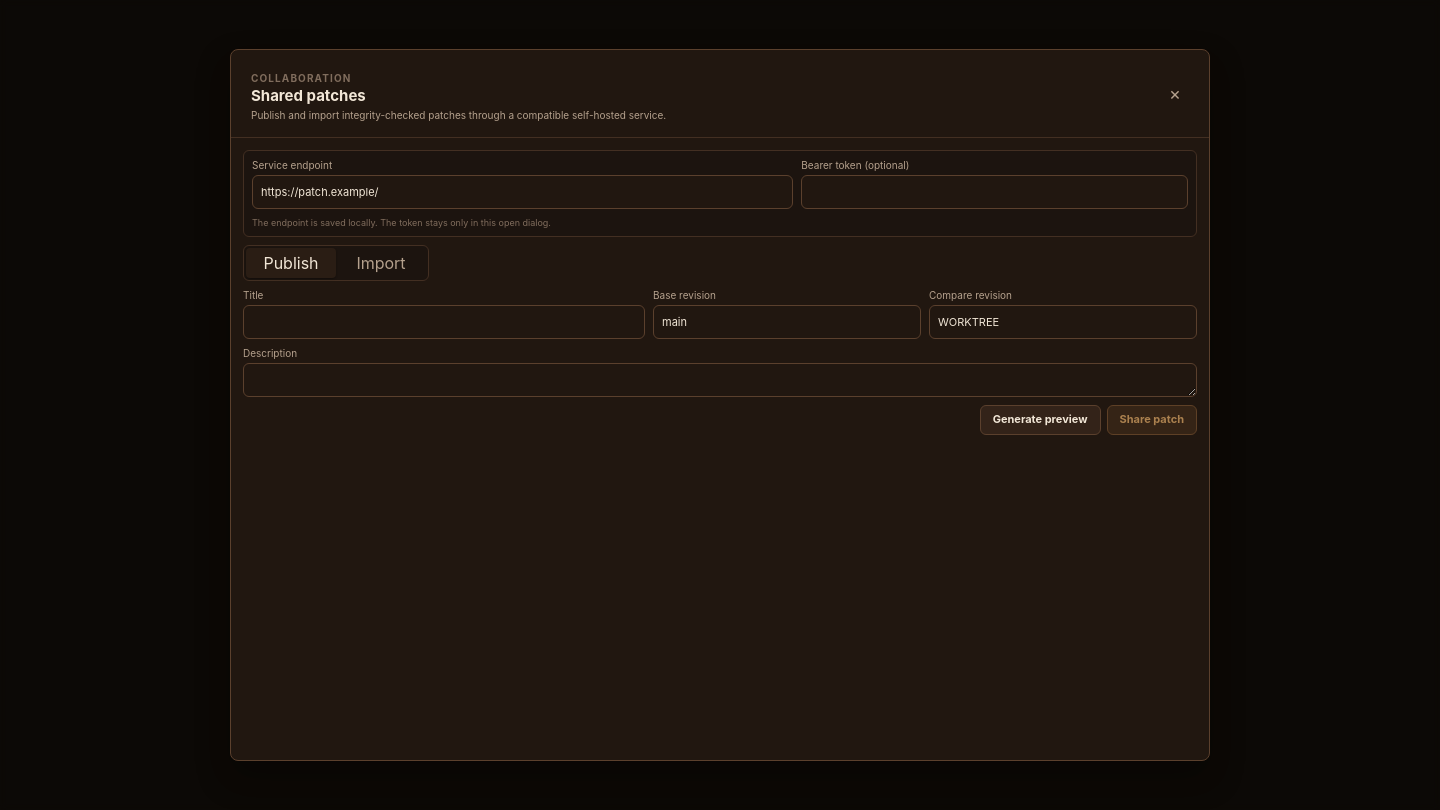
Test: PatchShareDialog › clears the previous action status when switching tabs
Click the button "Generate preview" at [1040, 420], box [980, 405, 1100, 435]
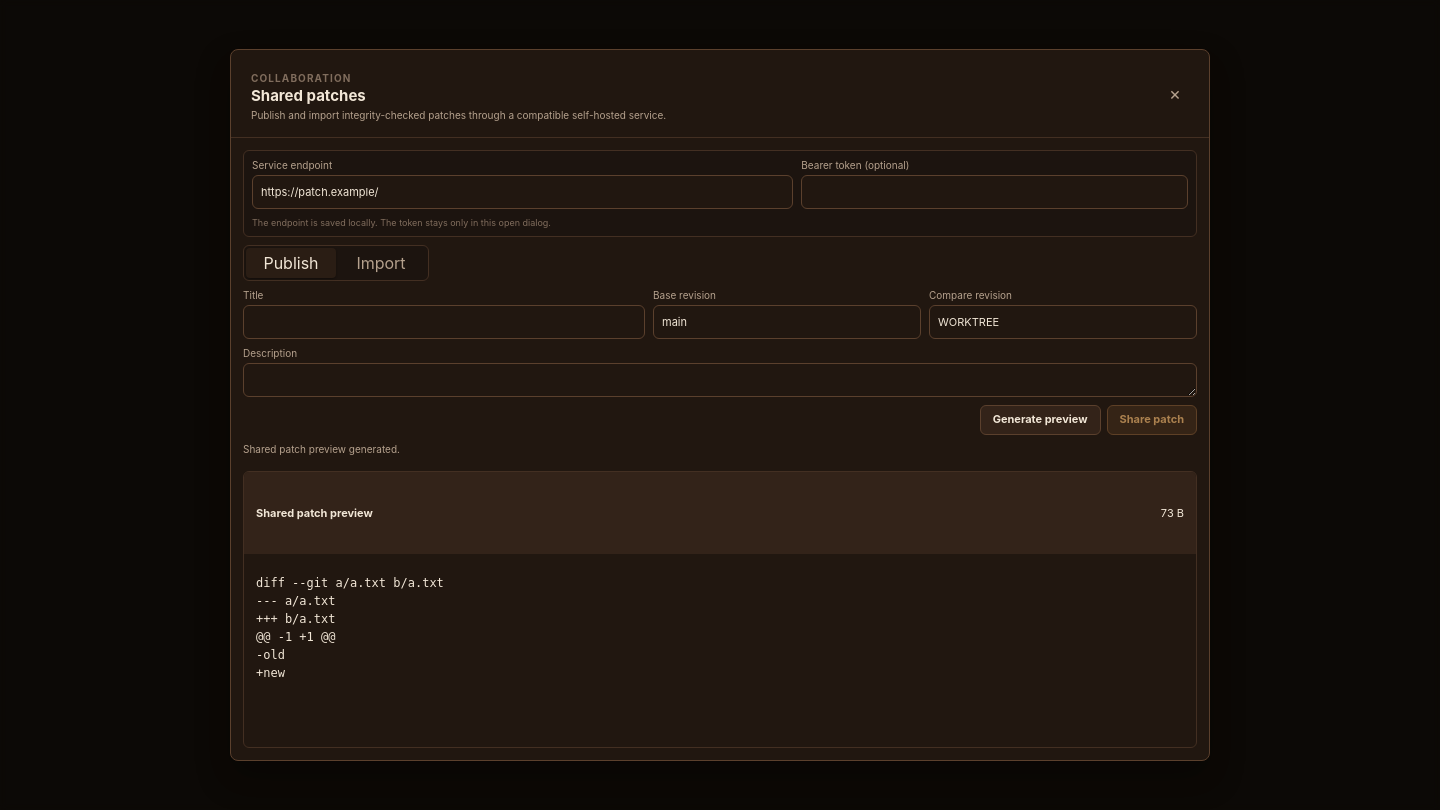
Expected: the text "Shared patch preview generated." is shown, [243, 443, 400, 455]
Click the tab "Import" at [381, 263], box [336, 248, 426, 278]
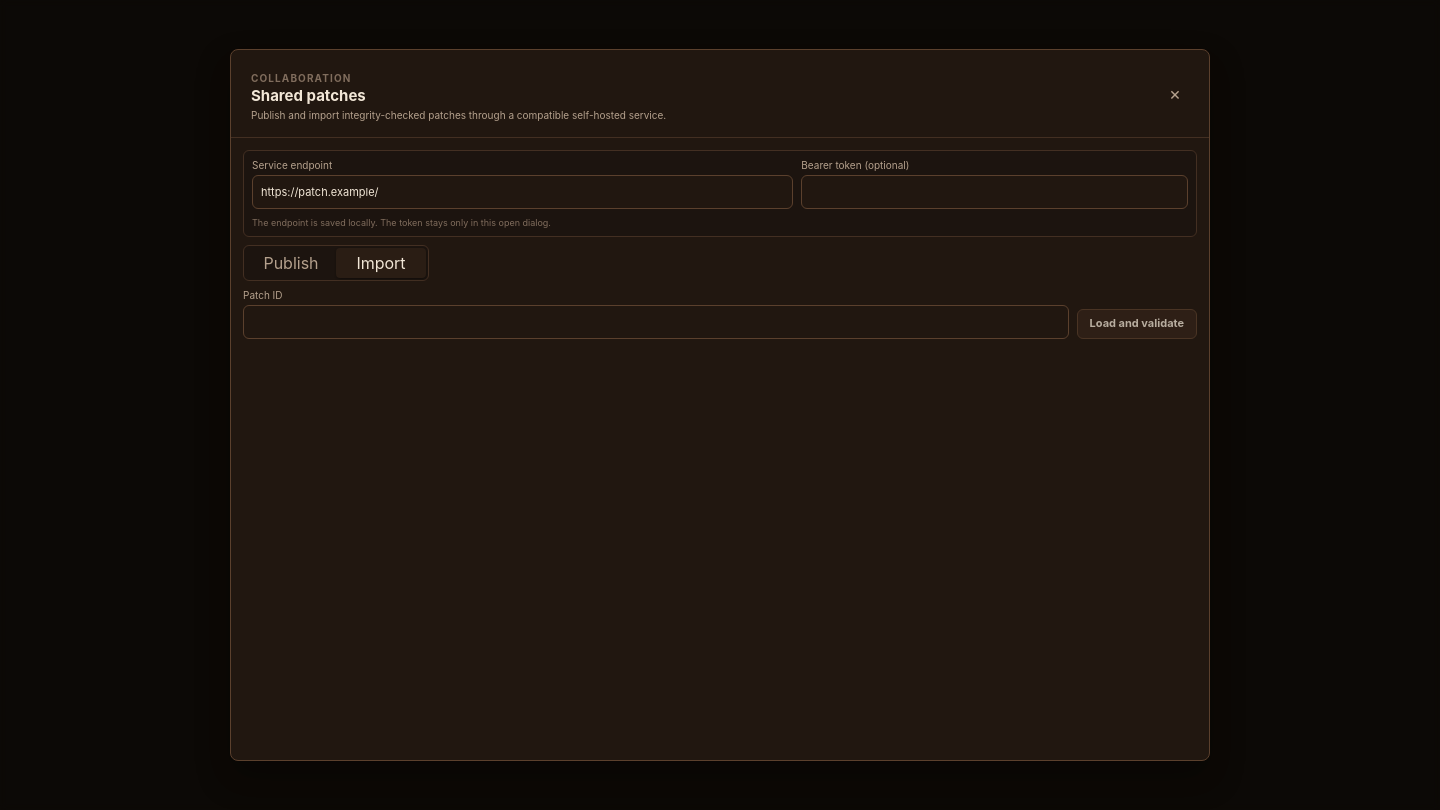
Expected: the text "Shared patch preview generated." is gone
